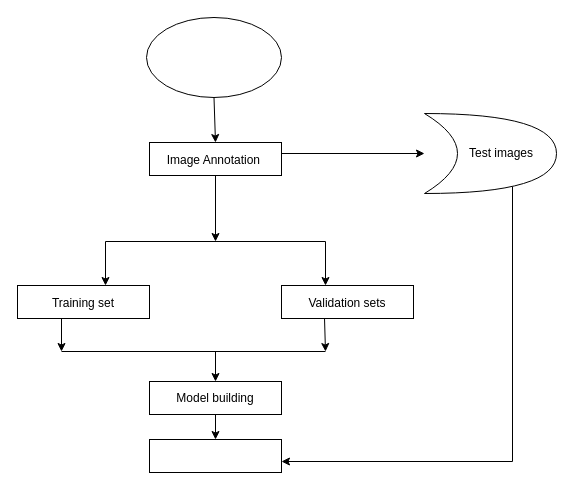
This 574x490 diagram has some shape labels left out. Here are the shapes that lost their labels. From the top down, the centre of each, then its label:
pixel 214 57: Image Collection
pixel 215 455: Model evaluation
